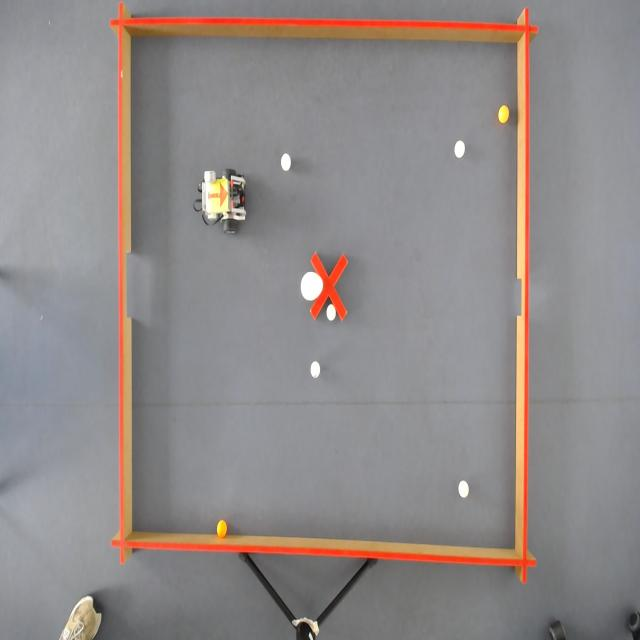cross: (309, 250, 349, 323)
egg: (299, 269, 325, 304)
orange_ball: (216, 517, 228, 539), (498, 104, 510, 124)
robot: (206, 180, 230, 214)
white_ball: (452, 138, 467, 160), (279, 152, 293, 174), (457, 478, 470, 501), (325, 302, 337, 323), (309, 358, 321, 379)
